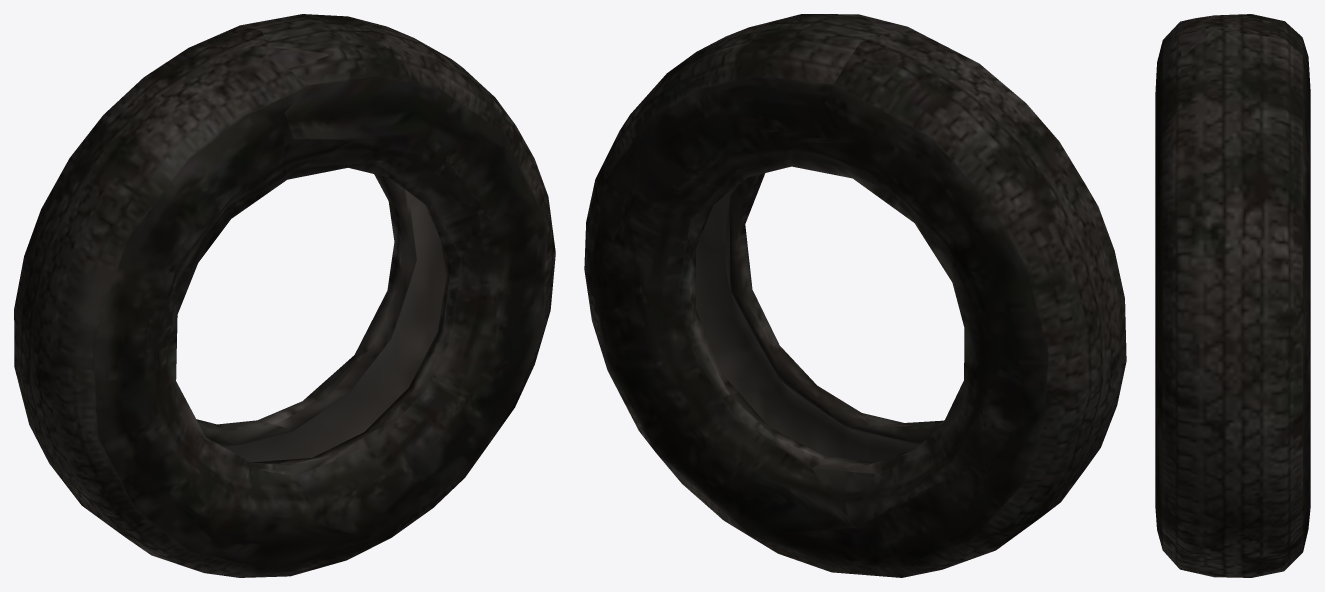
Rendered from yardprop_old_tyre.glb.
The picture shows the model from 3 angles, left to right: view 1: azimuth 30°, elevation 25°; view 2: azimuth 150°, elevation 25°; view 3: azimuth 270°, elevation 25°; orthographic projection. The views are drawn at different scales.
Parts seen in each view (by area): view 1: old_tyre; view 2: old_tyre; view 3: old_tyre.
Boxes of the visible parts, box(x1,y1,x2,y2) form: old_tyre: box(14, 14, 555, 577); old_tyre: box(584, 14, 1126, 577); old_tyre: box(1155, 14, 1310, 577).
Bounding box in the file's own units: 0.5999 × 0.5998 × 0.165.
1 material, 1 textured.
